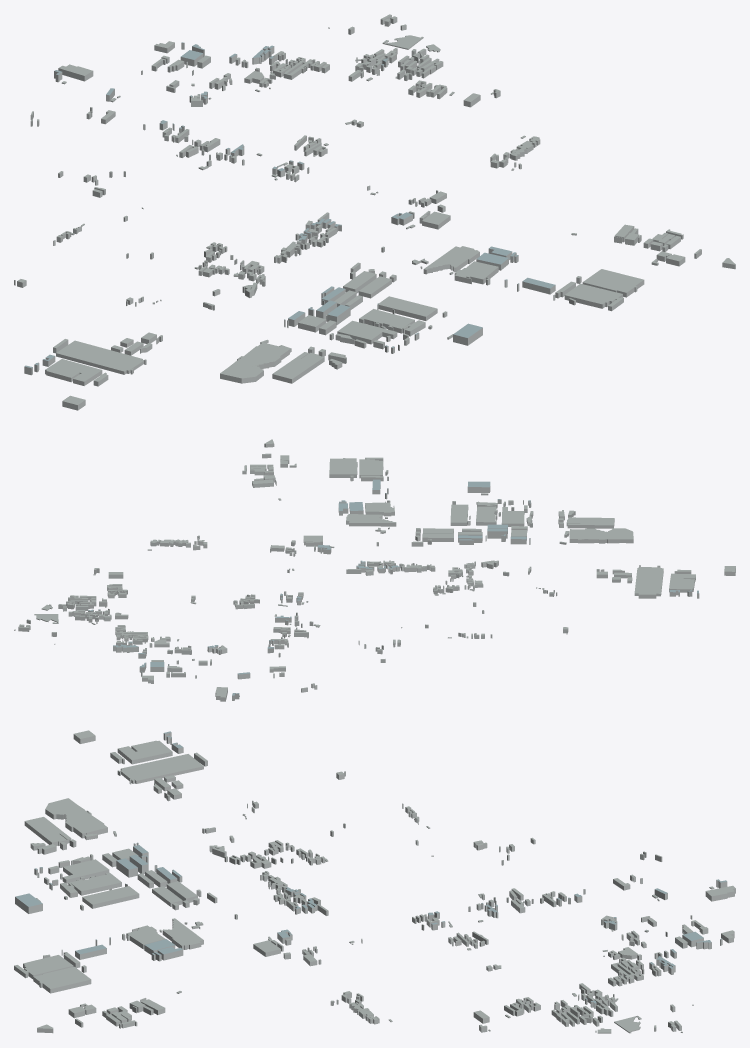
The model's file is far.glb.
3 renders of one model, top to bottom at view 1: azimuth 30°, elevation 25°; view 2: azimuth 150°, elevation 25°; view 3: azimuth 270°, elevation 25°, orthographic. The views are drawn at different scales.
Size of the model in its own units: 2088 by 29.95 by 2136.
